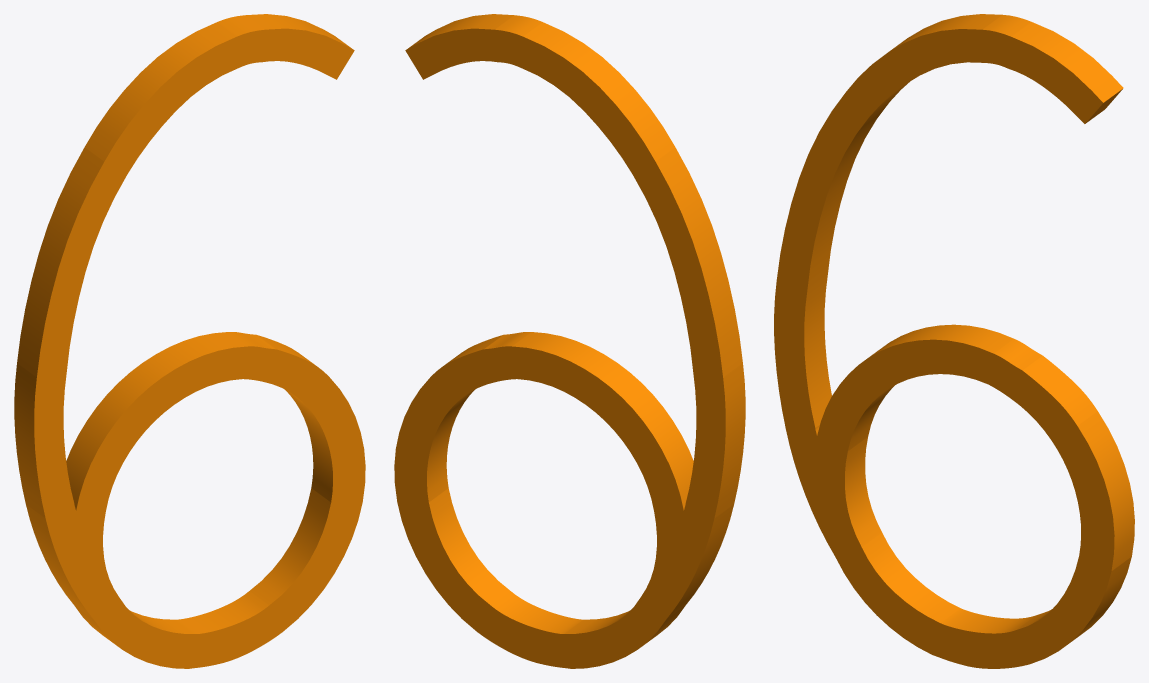
The picture shows the model from 3 angles, left to right: view 1: azimuth 30°, elevation 25°; view 2: azimuth 150°, elevation 25°; view 3: azimuth 330°, elevation 25°; orthographic projection. The views are drawn at different scales.
Parts seen in each view (by area): view 1: 6; view 2: 6; view 3: 6.
Part boxes in pixels (box(x1,y1,x2,y2)): 6: box(14, 14, 365, 668); 6: box(394, 14, 745, 668); 6: box(774, 14, 1134, 668).
Bounding box in the file's own units: 48.2 × 86.77 × 5.
